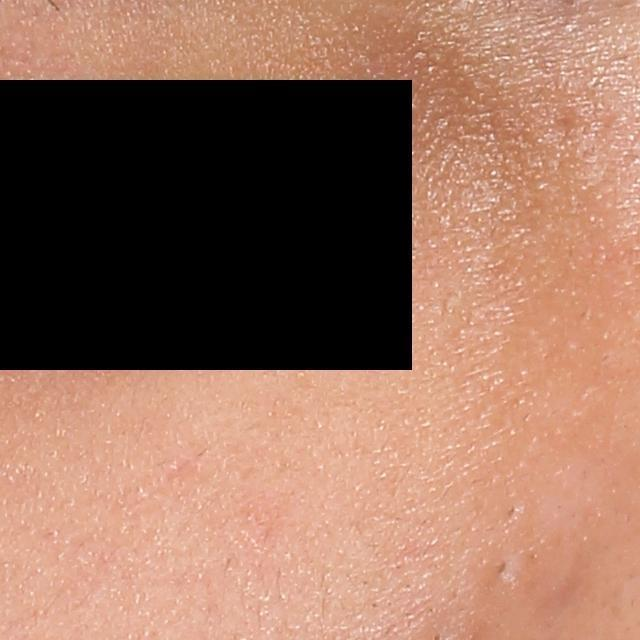comedo: (490, 554, 512, 580)
